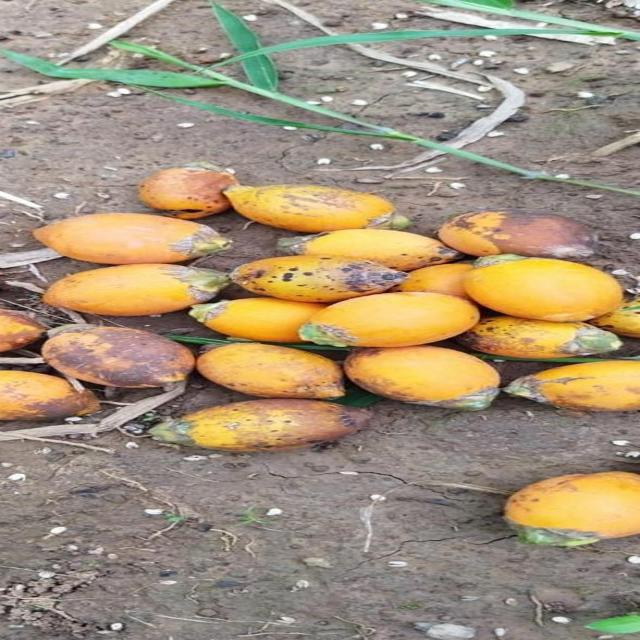good: (151, 399, 359, 456), (459, 258, 627, 323), (40, 326, 190, 396), (299, 293, 482, 350), (33, 214, 229, 266), (345, 346, 500, 408), (223, 184, 394, 236), (198, 342, 346, 401), (229, 255, 410, 302), (440, 212, 599, 264), (44, 266, 194, 320), (454, 316, 623, 358), (193, 296, 327, 346), (304, 229, 458, 272), (527, 358, 639, 416), (136, 165, 236, 222), (0, 370, 99, 423), (0, 312, 47, 354)
